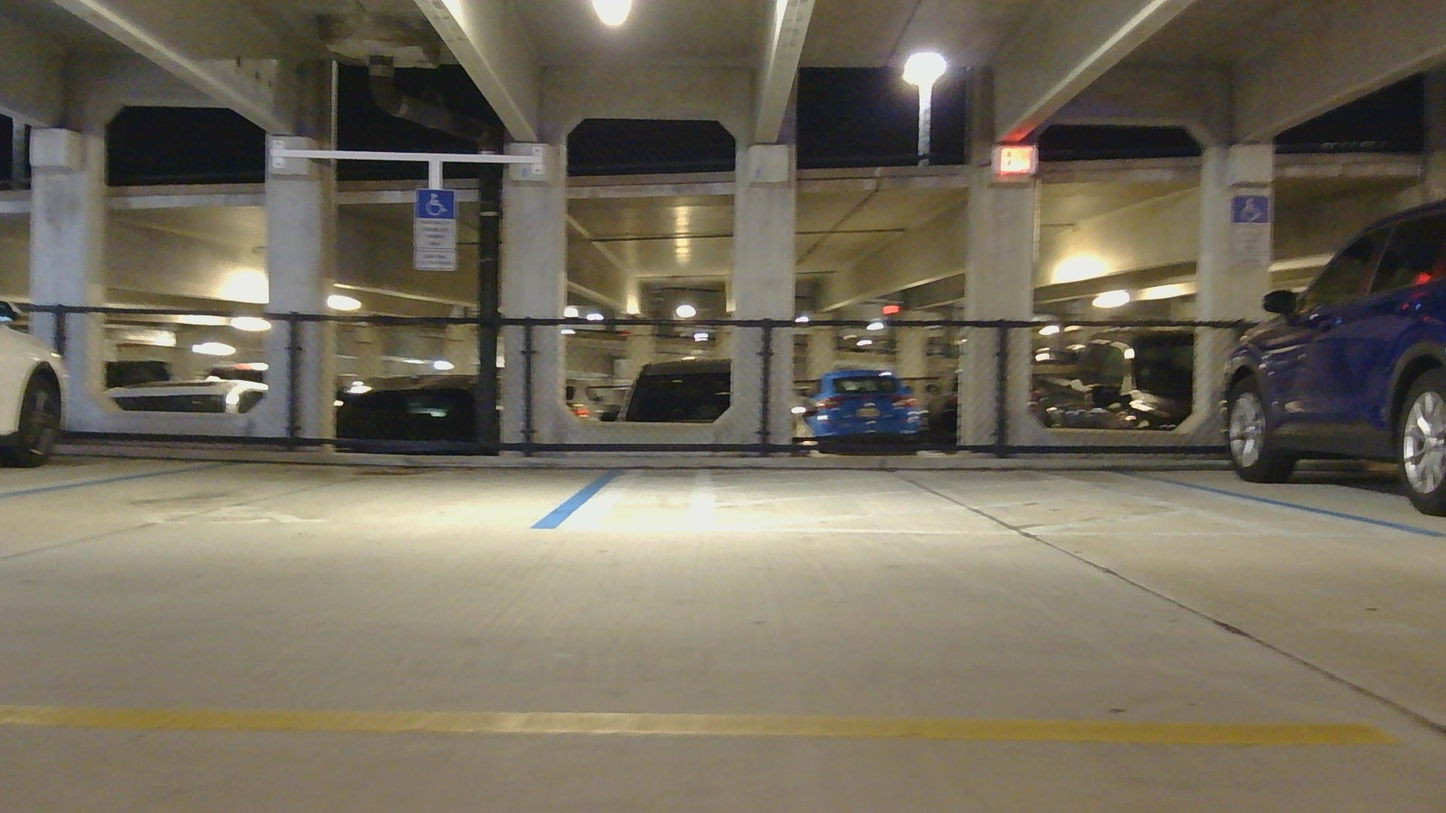empty_spot: (0, 378, 659, 531)
occupied_spot: (1218, 165, 1445, 521), (0, 265, 75, 500)
